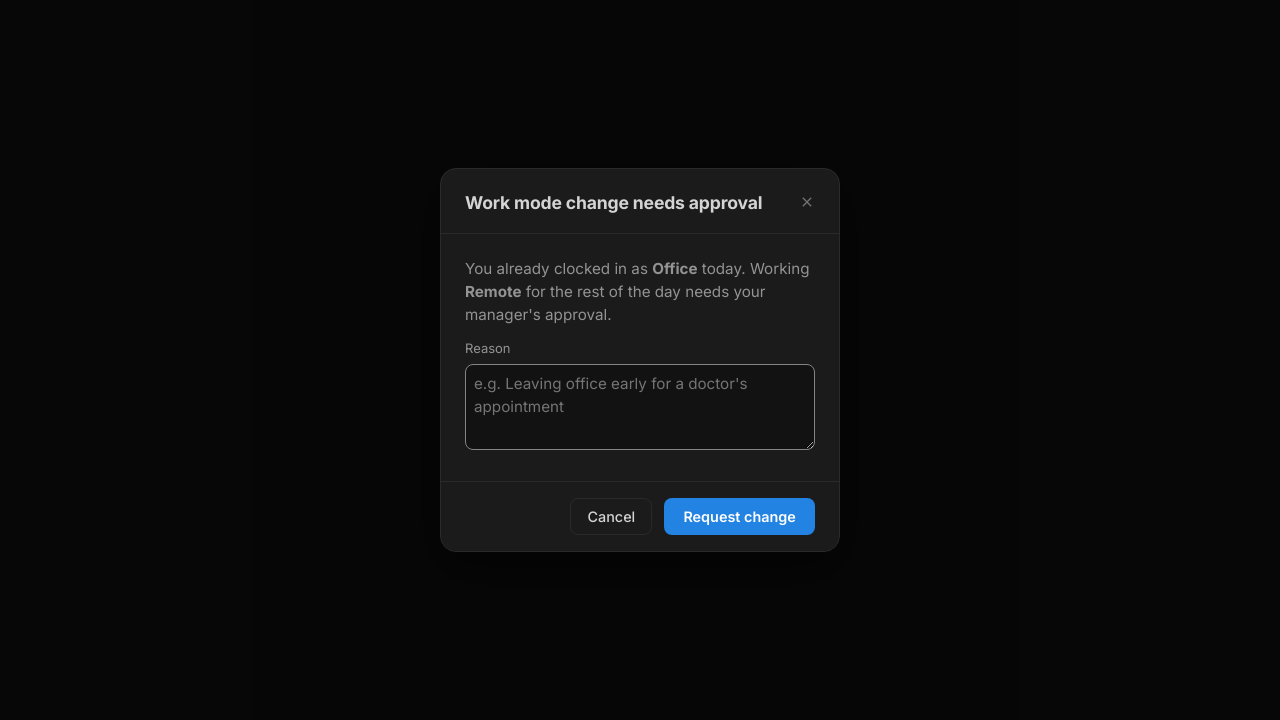
Scenario: work-mode lock (web) › server rejection is shown in the dialog
In the text box labelled "Reason": (640, 407) [465,364,815,450], type "x"
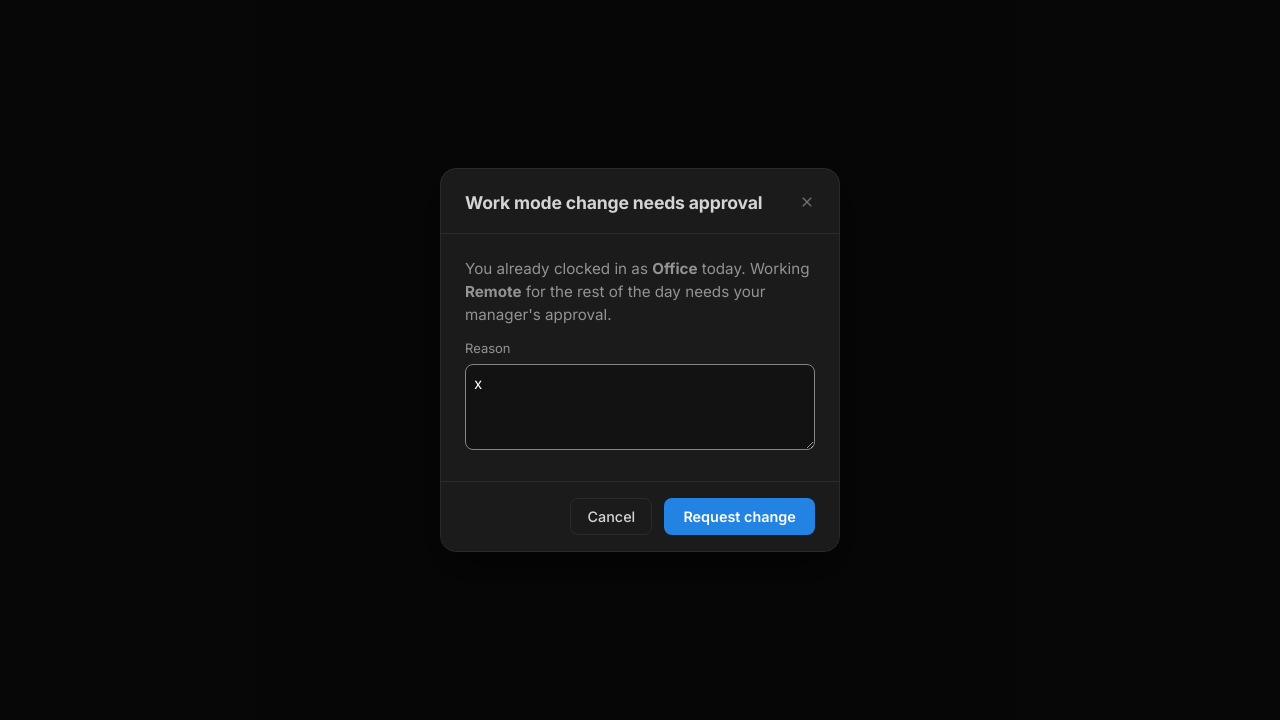
Click the button "Request change": (740, 517) [664,498,815,535]
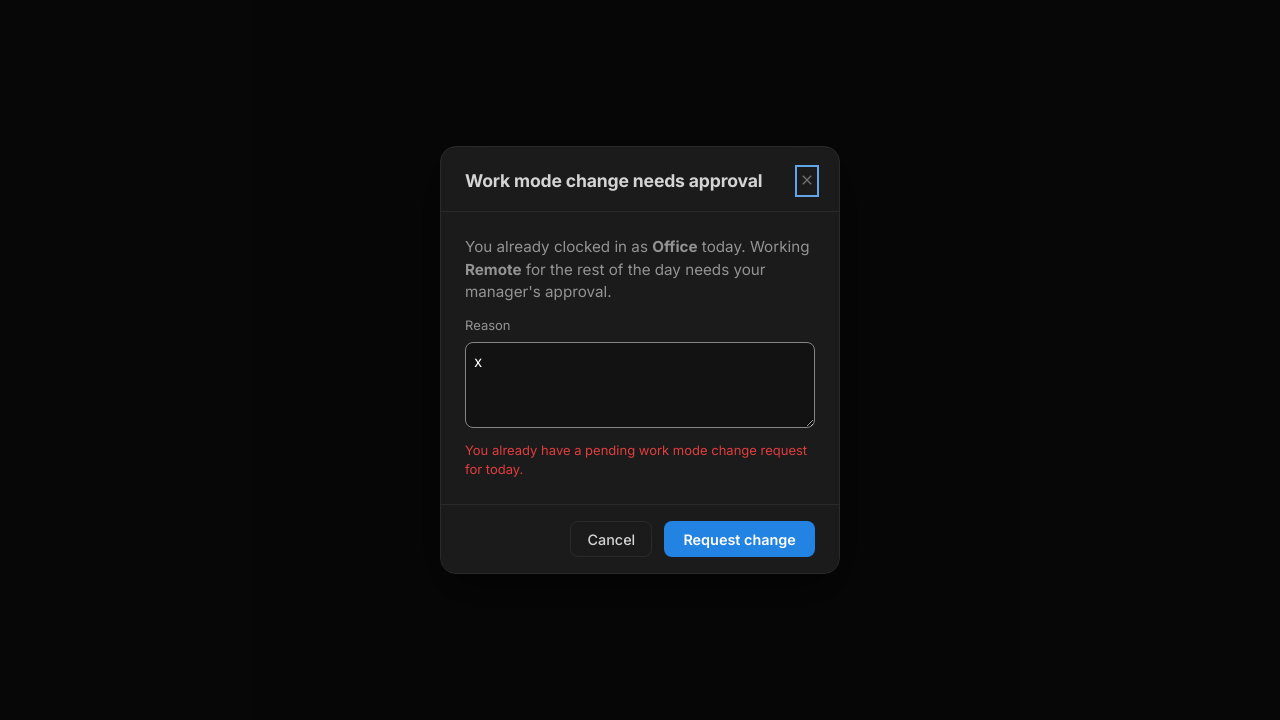
Result: the message shows "already have a pending" at [465,442,807,477]
